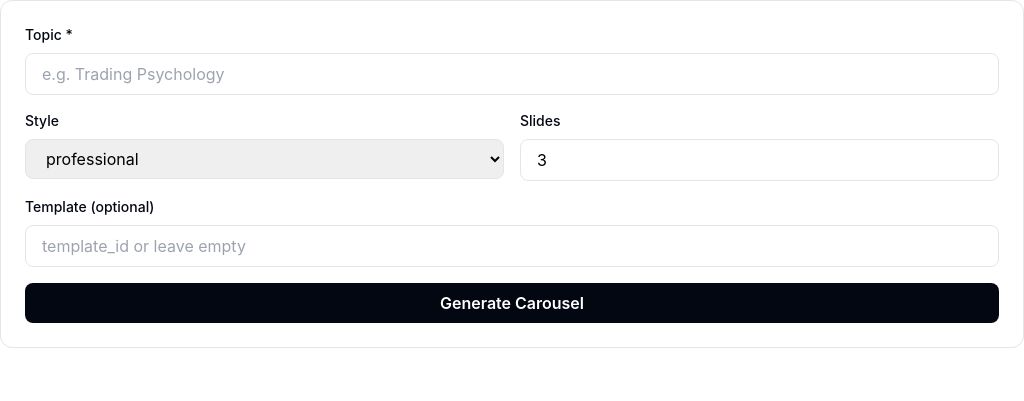
Test: GenerateForm › requires topic min 3 chars
This screenshot has width=1024, height=401.
Click the button "Generate Carousel". click: (512, 303)
box: 25,283 -> 999,323
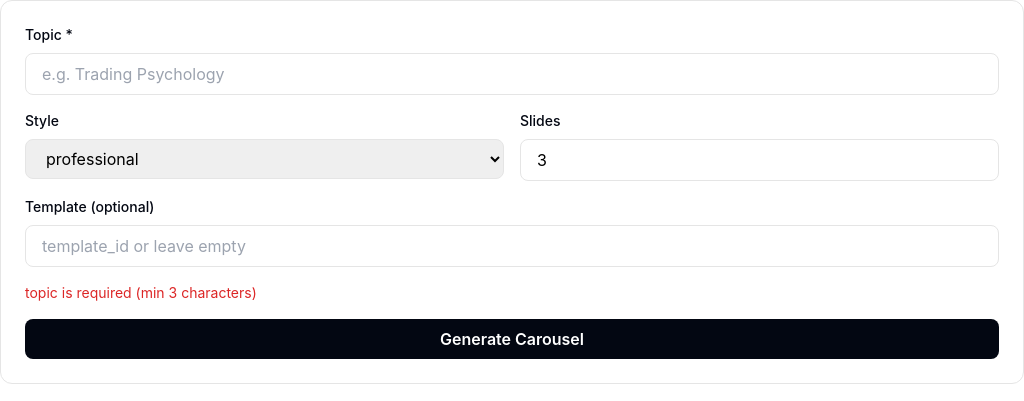
Expected: the text "topic is required (min 3 characters)" is shown, 25,284 -> 257,301
